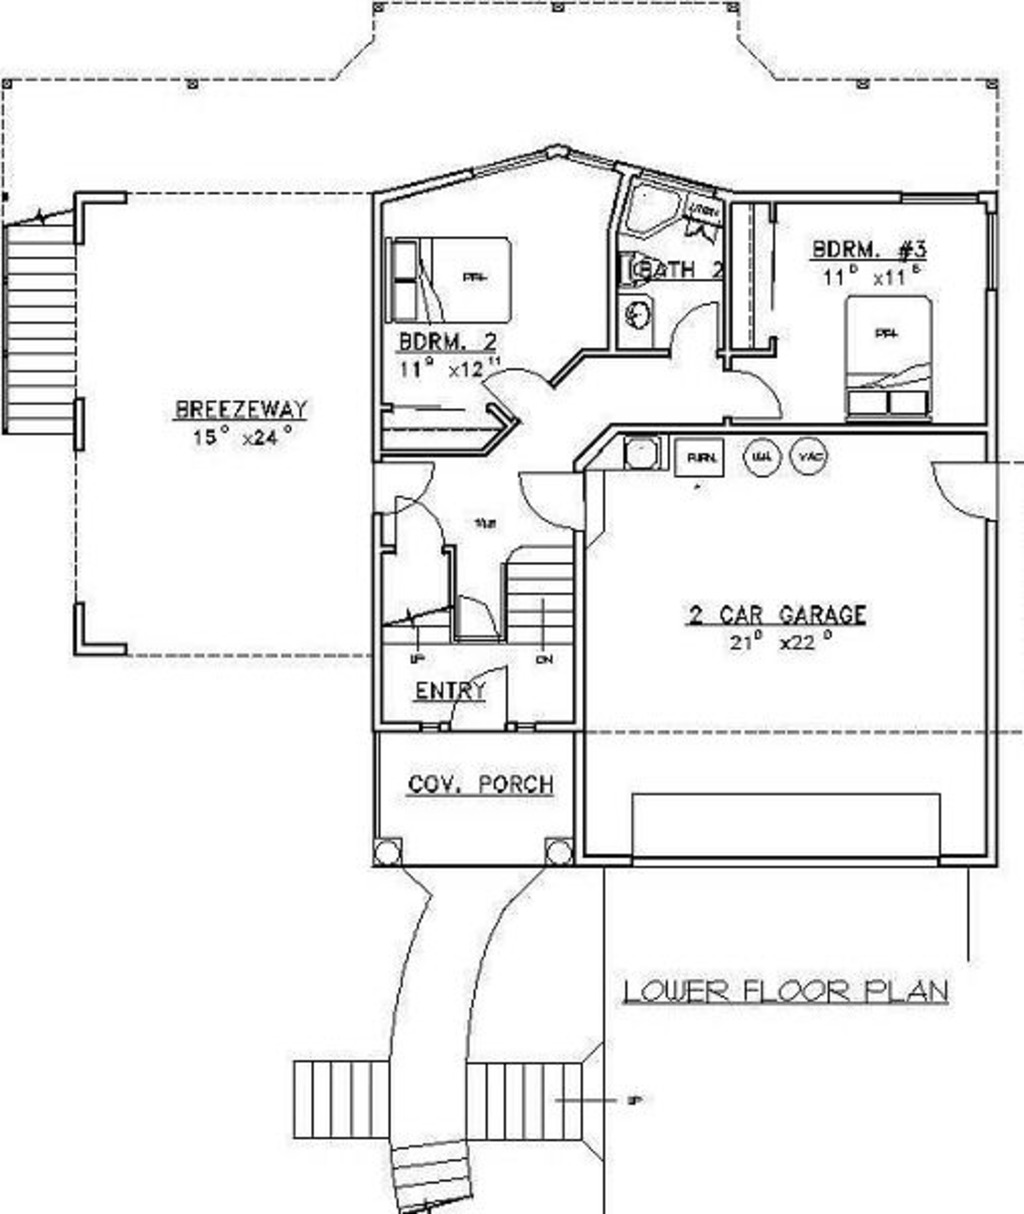door: (483, 352, 568, 426), (508, 469, 593, 532), (452, 658, 514, 730), (933, 450, 991, 515), (712, 371, 780, 426), (382, 492, 440, 545), (382, 460, 440, 511), (678, 298, 718, 349)
small_sink: (623, 286, 648, 345)
stairs: (3, 205, 78, 447), (463, 1062, 607, 1143), (507, 541, 582, 650), (299, 1058, 382, 1137)
